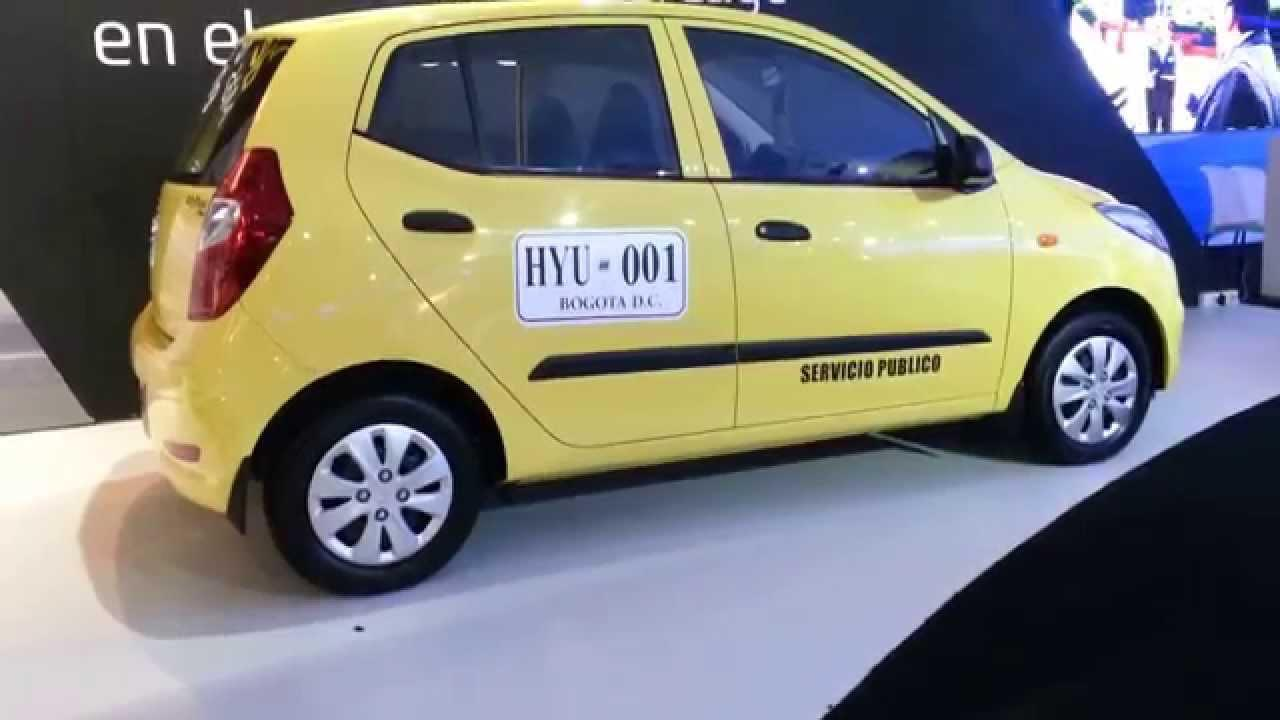taxi: (122, 1, 1220, 606)
